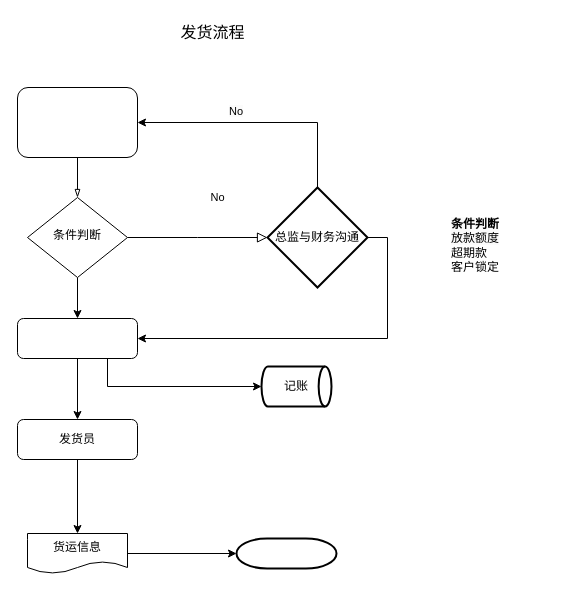
This 584x591 diagram has some shape labels left out. Here are the shapes that lost their labels. From the top down, the centre of each, then its label:
At point (77, 122): "发货单".
At point (77, 338): "仓管员备货".
At point (286, 553): "结束".
